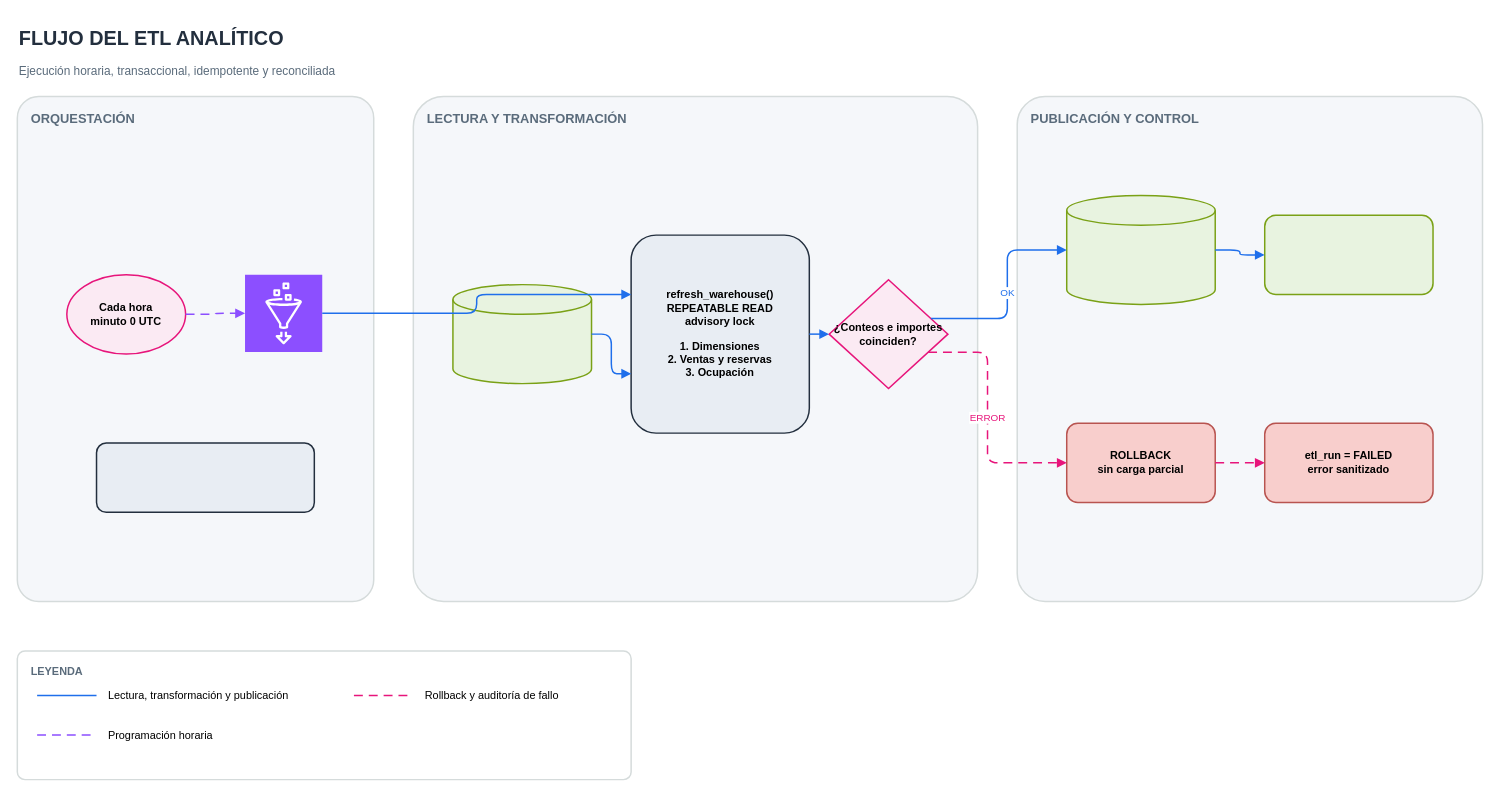
Image size: 1501x797. Some labels were removed from this diagram. The centre of each missing label's shape, as x and y in pixels:
"AWS Glue Job 2 × G.1X" belongs at point 283,313.
"COMMIT etl_run = SUCCEEDED actualiza watermark" belongs at point 1348,254.
"RDS PostgreSQL schema analytics dimensiones + hechos" belongs at point 1141,249.
"RDS PostgreSQL schema public 12 tablas fuente" belongs at point 522,333.
"run_id + snapshot_at concurrencia máxima: 1" belongs at point 205,477.
